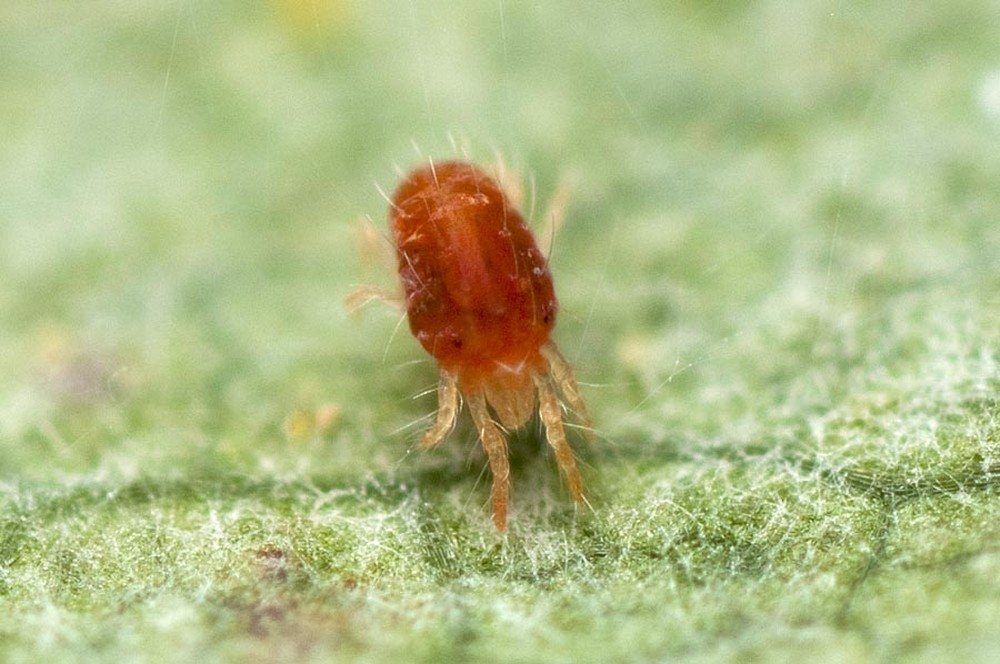Aracnido Rojo: (335, 129, 631, 529)
